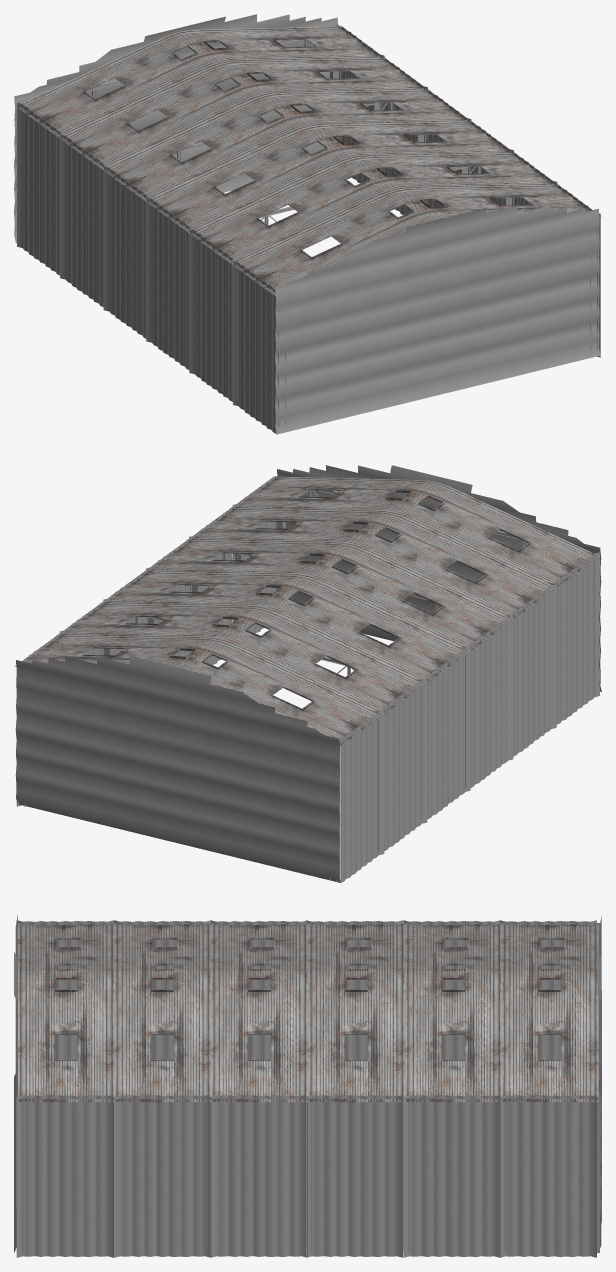
The model's file is warehousefullv2.fbx.
3 views of the same model, one above another, from view 1: azimuth 30°, elevation 25°; view 2: azimuth 150°, elevation 25°; view 3: azimuth 270°, elevation 25° (orthographic). The views are drawn at different scales.
Visible parts, largest first — view 1: wallend1, roof2, roof3, roof, roof1, roof4, roof5, warhousewallside9, warhousewallside10, warhousewallside8, warhousewallside7, warhousewallside11 (+3 smaller); view 2: wallend, roof3, roof2, roof5, roof4, roof1, roof, warhousewallside6, warhousewallside9, warhousewallside8, warhousewallside10, warhousewallside11 (+3 smaller); view 3: roof5, roof1, roof4, roof3, roof2, roof, warhousewallside1, warhousewallside2, warhousewallside, warhousewallside4, warhousewallside3, warhousewallside5 (+11 smaller).
Boxes of the visible parts, <box> form: wallend1: <box>275,205,600,434</box>; roof2: <box>102,89,466,200</box>; roof3: <box>145,121,515,232</box>; roof: <box>16,26,382,137</box>; roof1: <box>59,58,428,168</box>; roof4: <box>189,153,558,264</box>; roof5: <box>232,184,601,295</box>; warhousewallside9: <box>146,197,189,369</box>; warhousewallside10: <box>189,229,232,401</box>; warhousewallside8: <box>103,166,147,338</box>; warhousewallside7: <box>60,134,103,307</box>; warhousewallside11: <box>233,261,276,434</box>; wallend: <box>15,656,340,882</box>; roof3: <box>144,539,513,651</box>; roof2: <box>101,571,469,682</box>; roof5: <box>231,476,599,587</box>; roof4: <box>188,508,556,619</box>; roof1: <box>58,603,426,714</box>; roof: <box>14,635,383,746</box>; warhousewallside6: <box>340,710,384,882</box>; warhousewallside9: <box>469,616,513,787</box>; warhousewallside8: <box>427,647,470,819</box>; warhousewallside10: <box>513,584,556,756</box>; warhousewallside11: <box>556,552,599,724</box>; roof5: <box>18,924,115,1102</box>; roof1: <box>405,924,502,1102</box>; roof4: <box>114,924,211,1102</box>; roof3: <box>211,924,308,1102</box>; roof2: <box>308,924,405,1102</box>; roof: <box>501,924,598,1102</box>; warhousewallside1: <box>114,1095,211,1257</box>; warhousewallside2: <box>210,1095,307,1257</box>; warhousewallside: <box>16,1095,113,1257</box>; warhousewallside4: <box>403,1095,500,1257</box>; warhousewallside3: <box>306,1095,402,1257</box>; warhousewallside5: <box>499,1095,596,1257</box>.
Bounding box in the file's own units: 3372 × 1765 × 4701.
